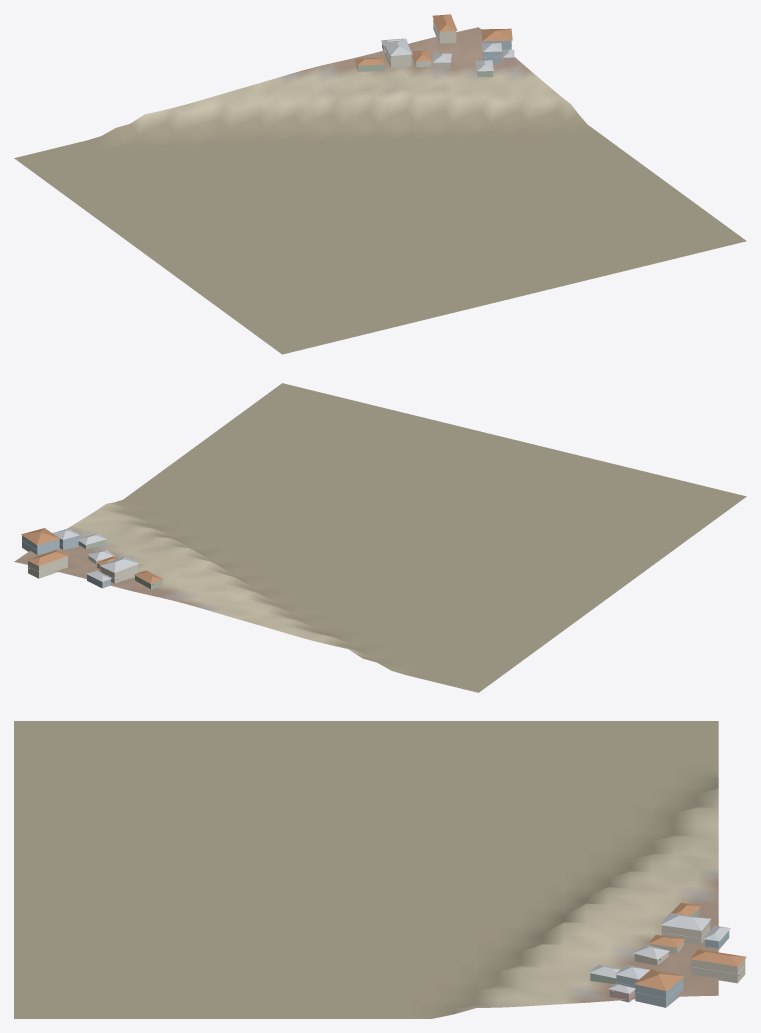
3 views of the same model, one above another, from view 1: azimuth 30°, elevation 25°; view 2: azimuth 150°, elevation 25°; view 3: azimuth 270°, elevation 25° (orthographic). The views are drawn at different scales.
Parts seen in each view (by area): view 1: Terrain-col, Buildings-col; view 2: Terrain-col, Buildings-col; view 3: Terrain-col, Buildings-col.
Boxes of the visible parts, bbox=[...] form: Terrain-col: bbox=[14, 27, 746, 354]; Buildings-col: bbox=[355, 14, 514, 76]; Terrain-col: bbox=[14, 383, 746, 692]; Buildings-col: bbox=[21, 528, 163, 588]; Terrain-col: bbox=[14, 721, 718, 1018]; Buildings-col: bbox=[589, 902, 746, 1007].
Size of the model in its own units: 263 by 17.33 by 266.
